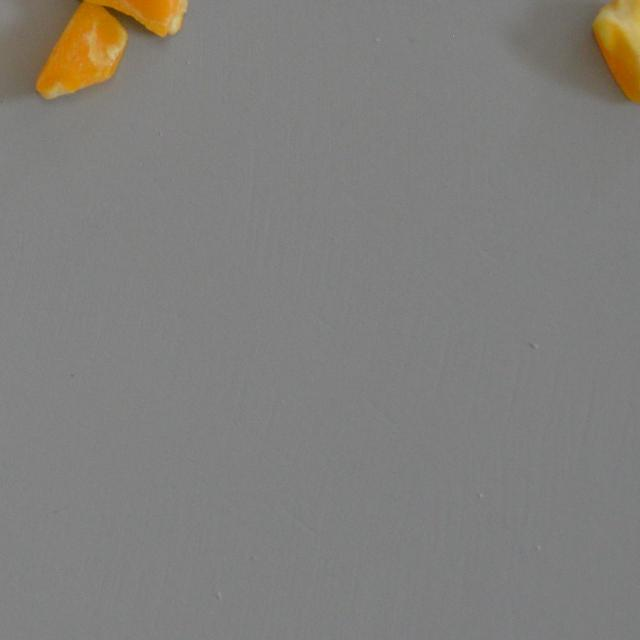estandar: (592, 0, 640, 104)
pelicula: (34, 2, 126, 104), (62, 0, 190, 40)
